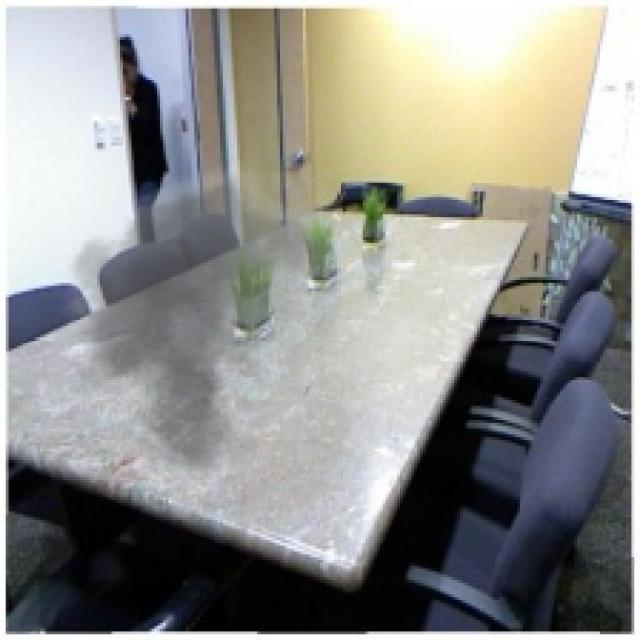smoke: (26, 148, 397, 506)
